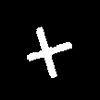single_crochet: (27, 27, 71, 77)
